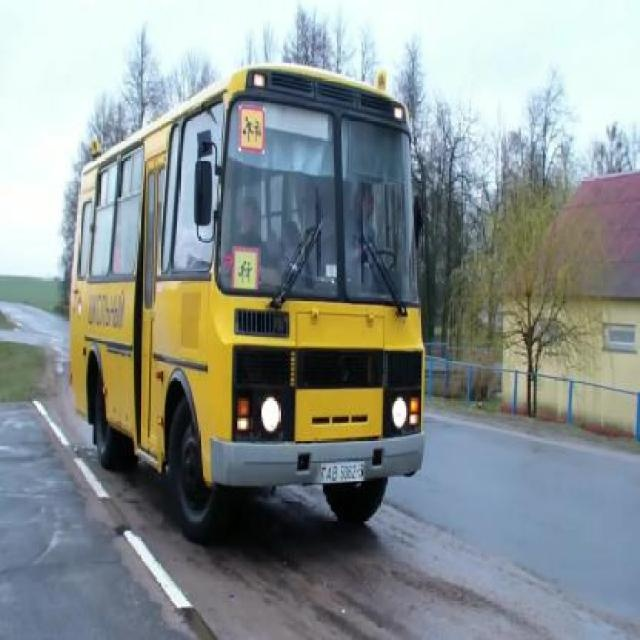Bus: (69, 45, 429, 550)
